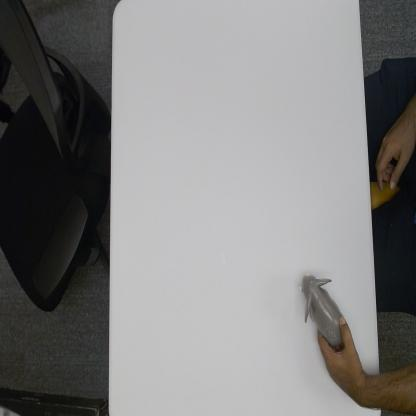Arm: (360, 368, 381, 410)
Elephant: (298, 270, 351, 351)
Hand: (314, 318, 361, 404)
